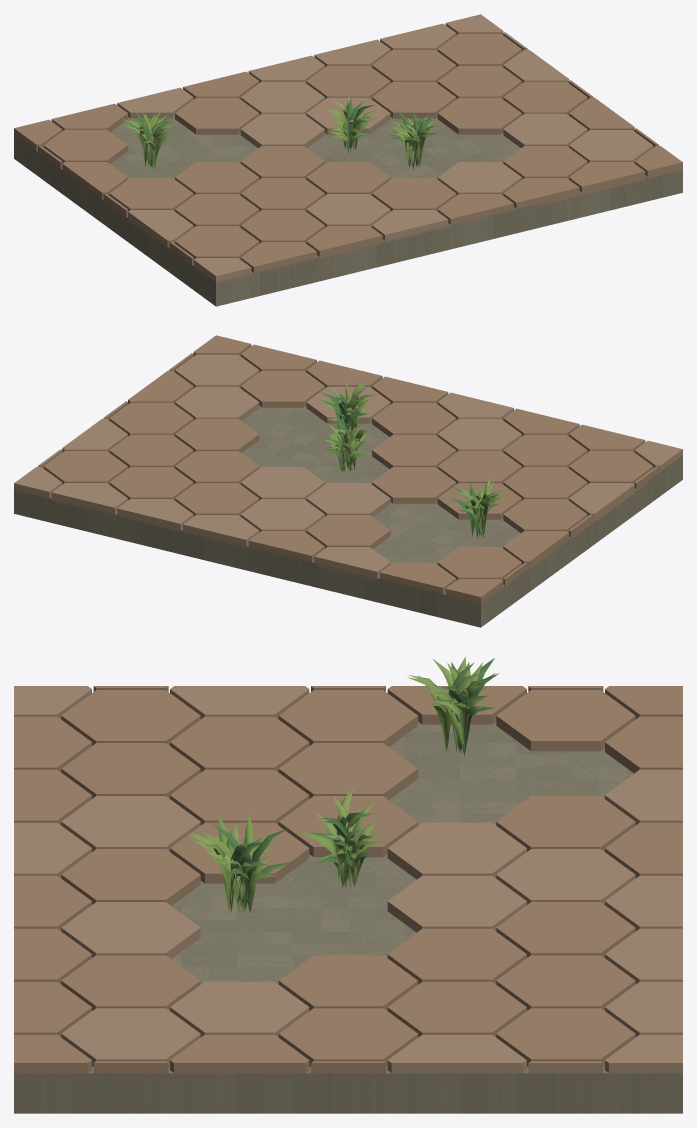
The model's file is 077_broken_hex_terracotta_paving.glb.
3 views of the same model, one above another, from view 1: azimuth 30°, elevation 25°; view 2: azimuth 150°, elevation 25°; view 3: azimuth 270°, elevation 25° (orthographic). The views are drawn at different scales.
Visible parts, largest first — view 1: GND-077_paving, Exposed_tile_bedding, Separate_irregular_grass_blades; view 2: GND-077_paving, Exposed_tile_bedding, Separate_irregular_grass_blades; view 3: GND-077_paving, Exposed_tile_bedding, Separate_irregular_grass_blades.
Part boxes in pixels (x1,y1,x2,y2): GND-077_paving: (14,14,682,283); Exposed_tile_bedding: (14,117,682,306); Separate_irregular_grass_blades: (119,96,438,169); GND-077_paving: (14,335,682,604); Exposed_tile_bedding: (14,406,682,627); Separate_irregular_grass_blades: (317,381,509,538); GND-077_paving: (14,686,682,1076); Exposed_tile_bedding: (14,722,682,1113); Separate_irregular_grass_blades: (186,656,498,914).
Bounding box in the file's own units: 3.2 × 0.4789 × 2.4.
Materials: 6 (1 with a texture image).
